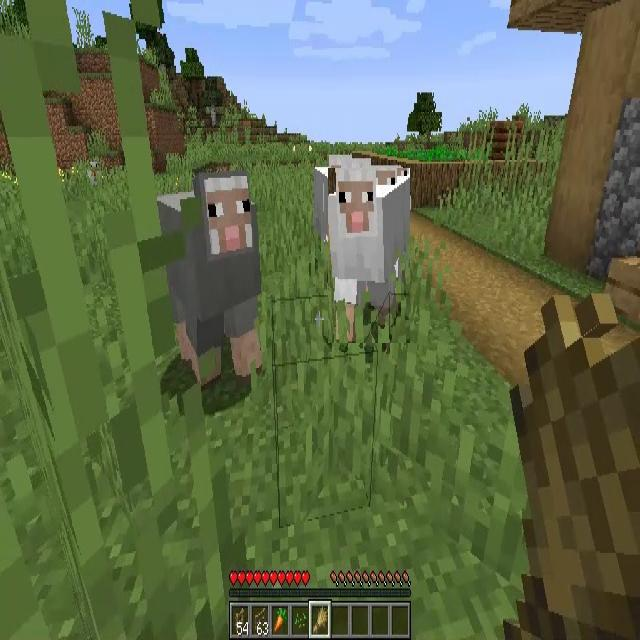sheep: (163, 174, 263, 376), (328, 168, 410, 343)
